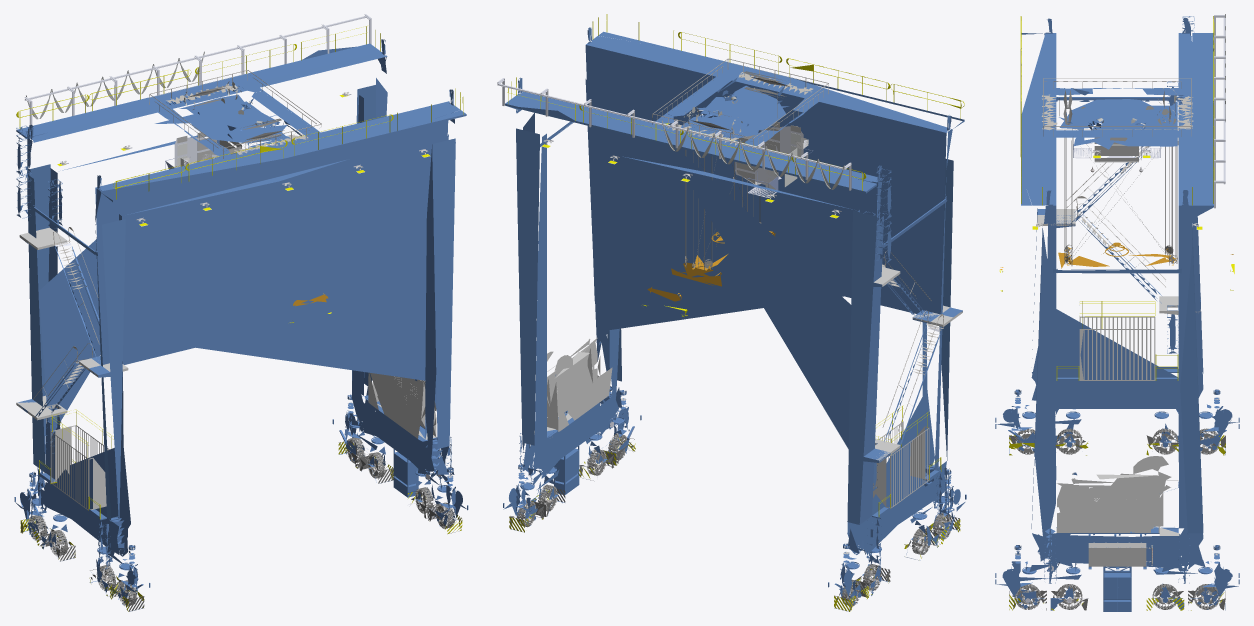
The model's file is gantry_crane_rtg_dec15.glb.
3 views of the same model, side by side, from view 1: azimuth 30°, elevation 25°; view 2: azimuth 150°, elevation 25°; view 3: azimuth 270°, elevation 25° (orthographic). The views are drawn at different scales.
Parts seen in each view (by area): view 1: Assembly~219, Assembly~212, Assembly~1305, Body_439, Body_444, Assembly~217, Assembly~210, Body_1_56, Assembly~1805, Assembly~145; view 2: Assembly~219, Assembly~212, Assembly~1305, Body_439, Assembly~217, Body_444, Assembly~210, Assembly~1805, Assembly~1149, Assembly~1326, Body_1_56, Assembly~173; view 3: Assembly~212, Assembly~219, Assembly~1305, Body_439, Body_444, Assembly~217, Assembly~210, Assembly~203, Assembly~145, Assembly~173, Assembly~132, Assembly~160 (+27 smaller).
Part boxes in pixels (left/top/right/bottom): Assembly~219: left=29, top=39, right=455, bottom=558; Assembly~212: left=27, top=39, right=466, bottom=569; Assembly~1305: left=149, top=80, right=323, bottom=158; Body_439: left=16, top=43, right=379, bottom=138; Body_444: left=50, top=425, right=109, bottom=510; Assembly~217: left=368, top=372, right=436, bottom=439; Assembly~210: left=372, top=376, right=436, bottom=438; Body_1_56: left=25, top=16, right=365, bottom=100; Assembly~1805: left=26, top=51, right=204, bottom=119; Assembly~145: left=415, top=476, right=466, bottom=526; Assembly~219: left=507, top=27, right=953, bottom=557; Assembly~212: left=516, top=28, right=964, bottom=566; Assembly~1305: left=651, top=69, right=828, bottom=149; Body_439: left=505, top=96, right=876, bottom=193; Assembly~217: left=547, top=337, right=602, bottom=431; Body_444: left=873, top=421, right=929, bottom=508; Assembly~210: left=547, top=341, right=612, bottom=431; Assembly~1805: left=662, top=120, right=844, bottom=189; Assembly~1149: left=735, top=126, right=803, bottom=197; Assembly~1326: left=647, top=231, right=775, bottom=301; Body_1_56: left=497, top=84, right=846, bottom=170; Assembly~173: left=503, top=470, right=564, bottom=525; Assembly~212: left=1021, top=18, right=1203, bottom=583; Assembly~219: left=1032, top=18, right=1213, bottom=583; Assembly~1305: left=1041, top=88, right=1191, bottom=149; Body_439: left=1192, top=33, right=1213, bottom=207; Body_444: left=1079, top=316, right=1155, bottom=380; Assembly~217: left=1056, top=473, right=1170, bottom=532; Assembly~210: left=1057, top=456, right=1177, bottom=532; Assembly~203: left=1088, top=543, right=1146, bottom=566; Assembly~145: left=997, top=561, right=1081, bottom=610; Assembly~173: left=1153, top=562, right=1238, bottom=609; Assembly~132: left=996, top=406, right=1081, bottom=451; Assembly~160: left=1154, top=406, right=1237, bottom=451.
Bounding box in the file's own units: 21532 × 24852 × 12471.
